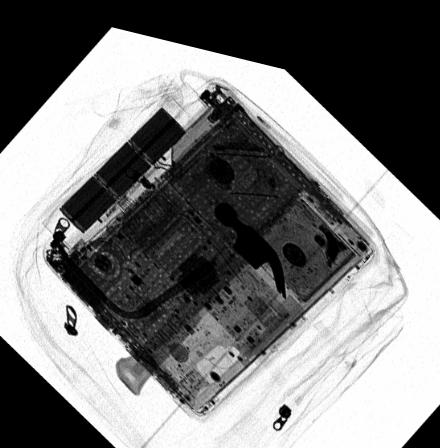Hammer: (128, 190, 287, 371)
